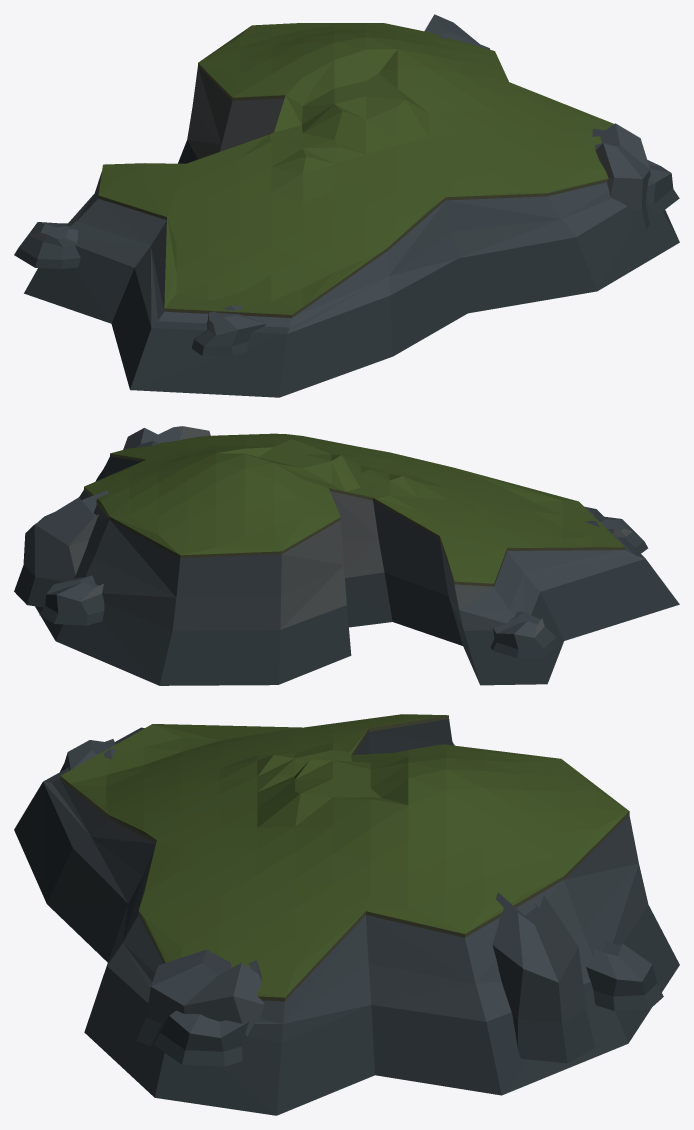
Rendered from island_b.glb.
The picture shows the model from 3 angles, top to bottom: view 1: azimuth 30°, elevation 25°; view 2: azimuth 150°, elevation 25°; view 3: azimuth 270°, elevation 25°; orthographic projection. The views are drawn at different scales.
Visible parts, largest first — view 1: island_b_Coast short olive grass, island_b_Coast blue grey bedrock; view 2: island_b_Coast blue grey bedrock, island_b_Coast short olive grass; view 3: island_b_Coast blue grey bedrock, island_b_Coast short olive grass.
Part boxes in pixels (box(x1,y1,x2,y2)): island_b_Coast short olive grass: box(98, 23, 613, 317); island_b_Coast blue grey bedrock: box(14, 14, 679, 397); island_b_Coast blue grey bedrock: box(14, 426, 679, 685); island_b_Coast short olive grass: box(84, 433, 624, 586); island_b_Coast blue grey bedrock: box(14, 719, 679, 1115); island_b_Coast short olive grass: box(60, 714, 629, 1001).
Size of the model in its own units: 127 by 33.89 by 103.
